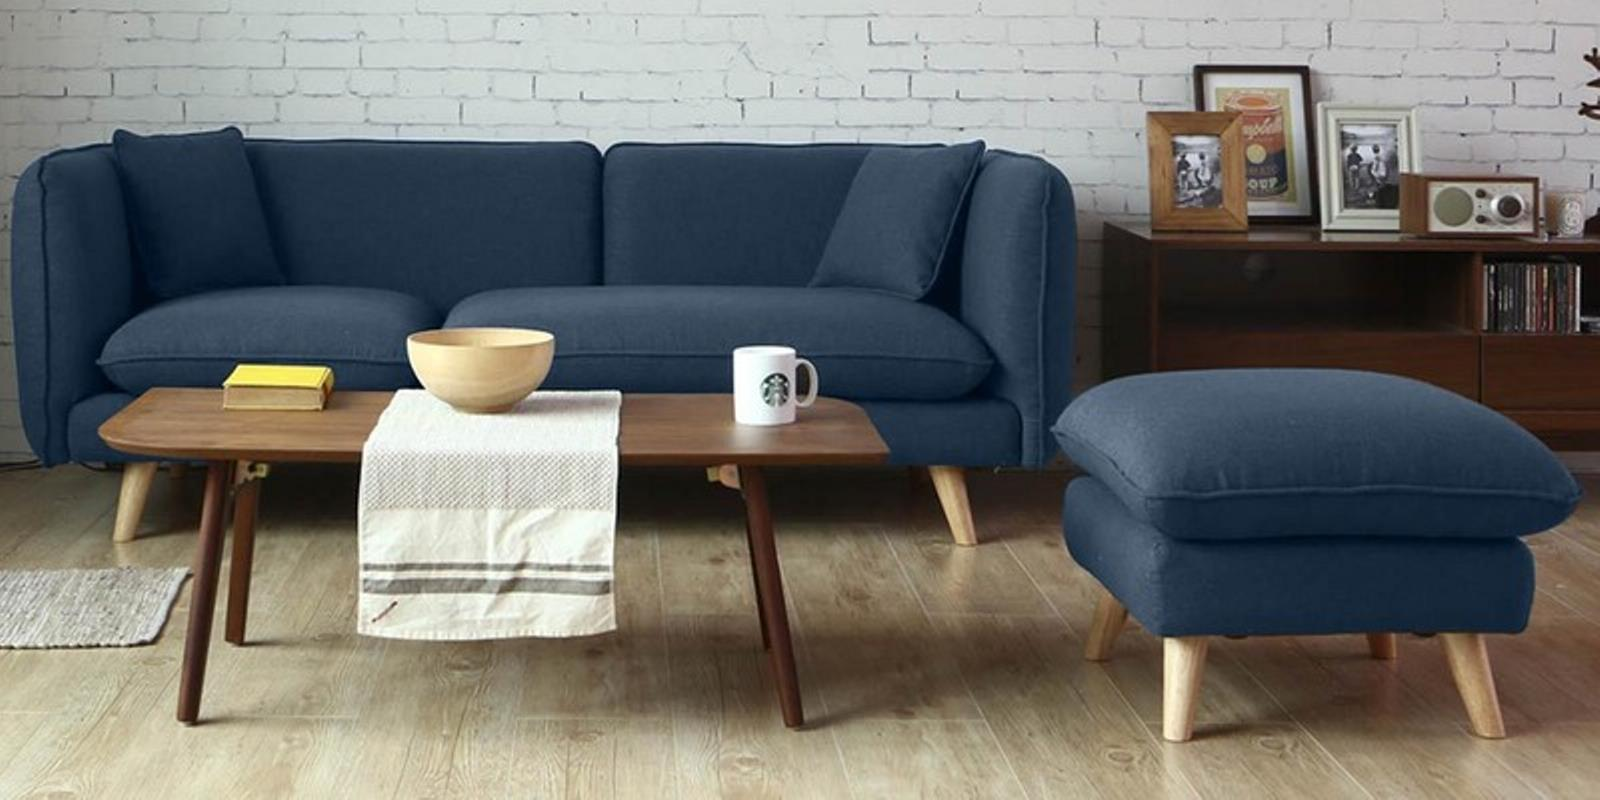Gloria Three Seater Sofa with Ottoman in Blue Colour by CasaCraft: (10, 118, 1082, 576), (1024, 351, 1581, 769)
